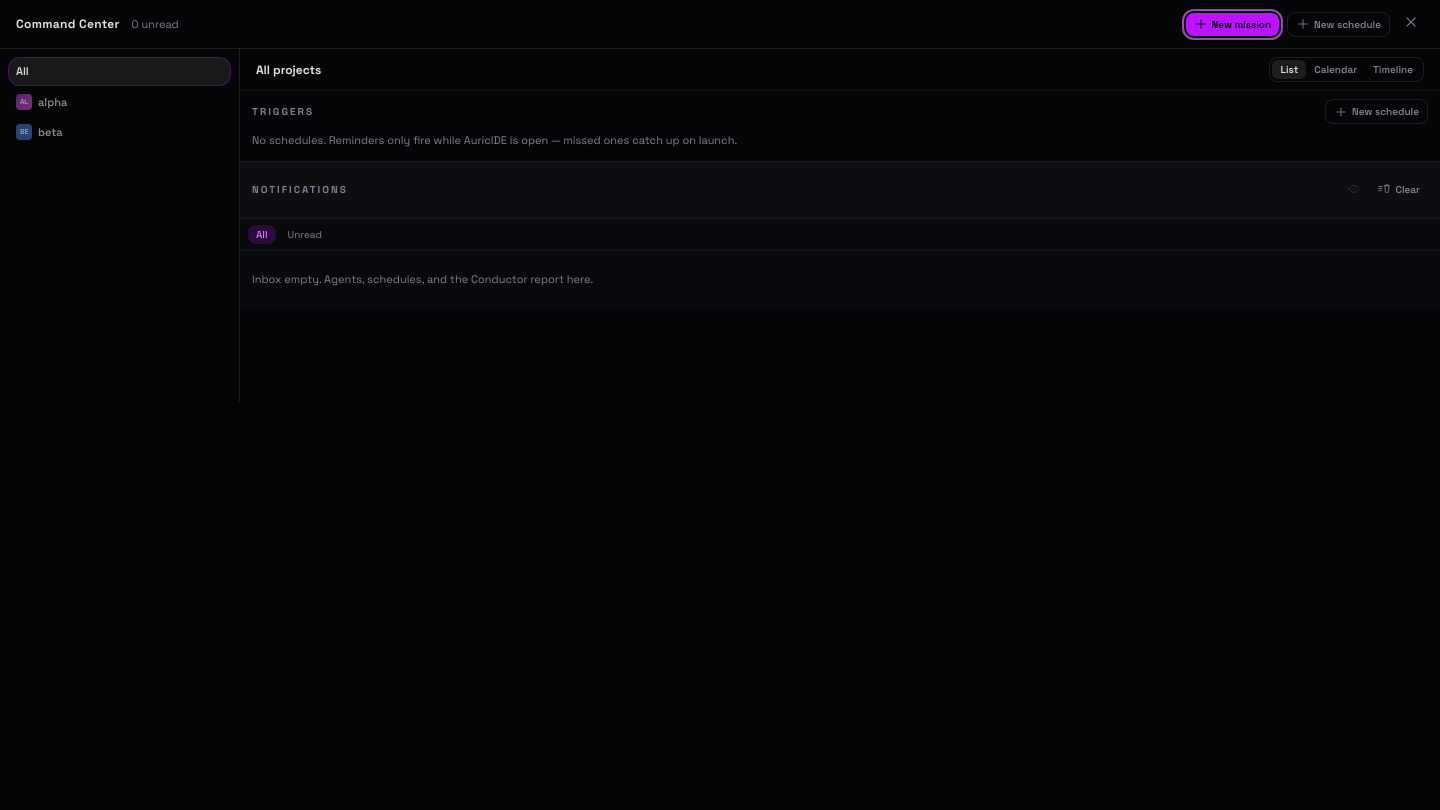
Test: CommandCenter › the schedule editor › opens a blank one from the header, bound to the open project
What coordinates should you click on to do the following:
click the button with test id "command-center-new-schedule"
I would click on:
 (1338, 24)
Its box is [1287, 12, 1390, 36].
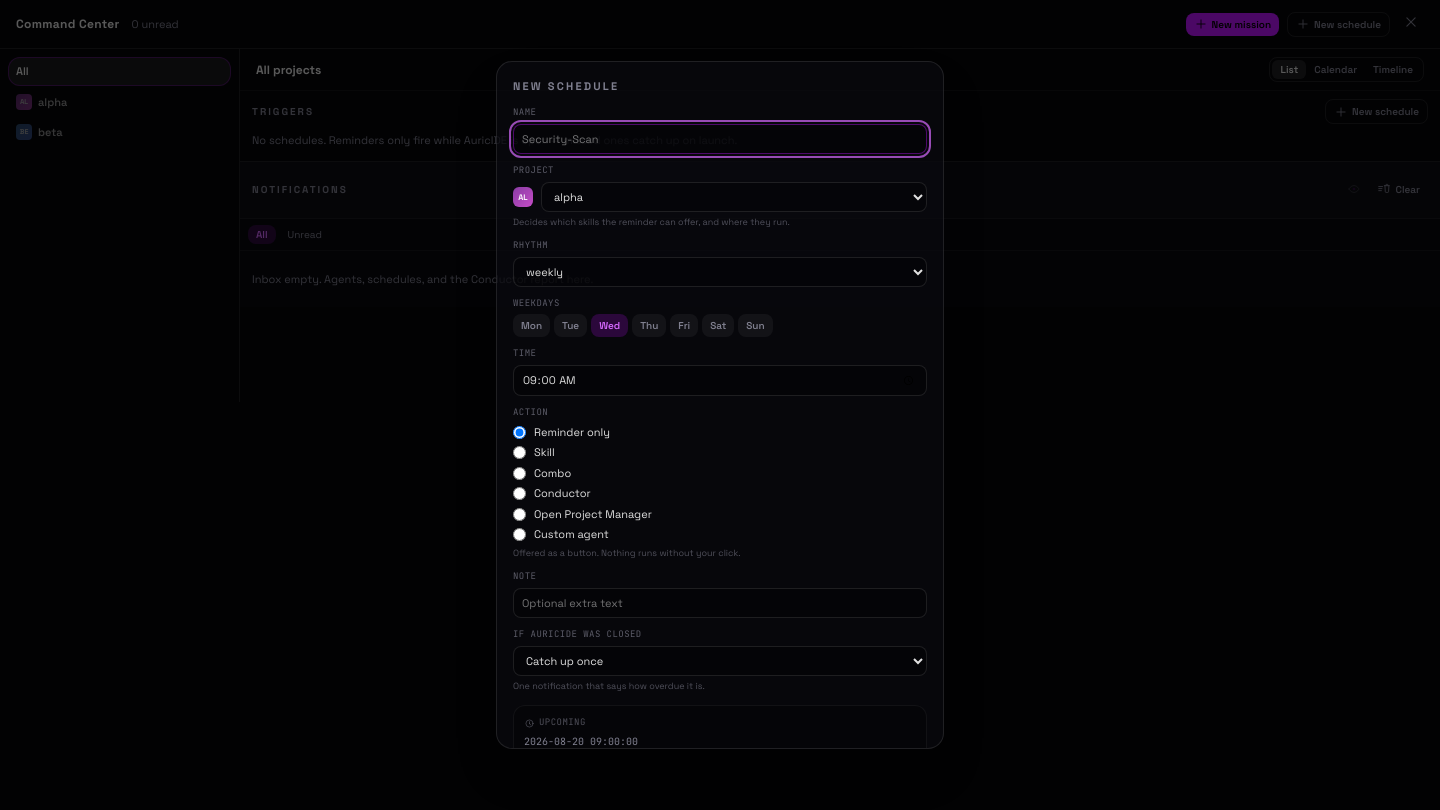
Expected: the field with test id "schedule-name" is empty, [513, 124, 927, 154]
Expected: the dropdown with test id "schedule-project" shows "alpha", [541, 182, 927, 212]
